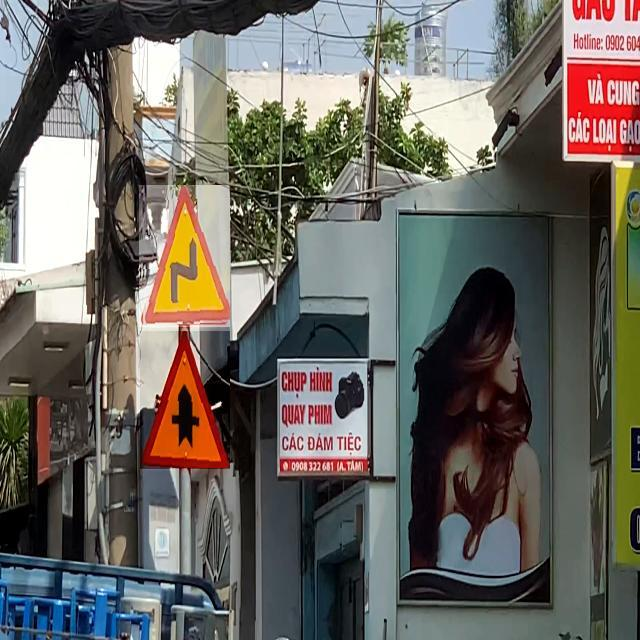W-202b: (139, 186, 230, 328)
W-207a: (140, 332, 230, 470)
